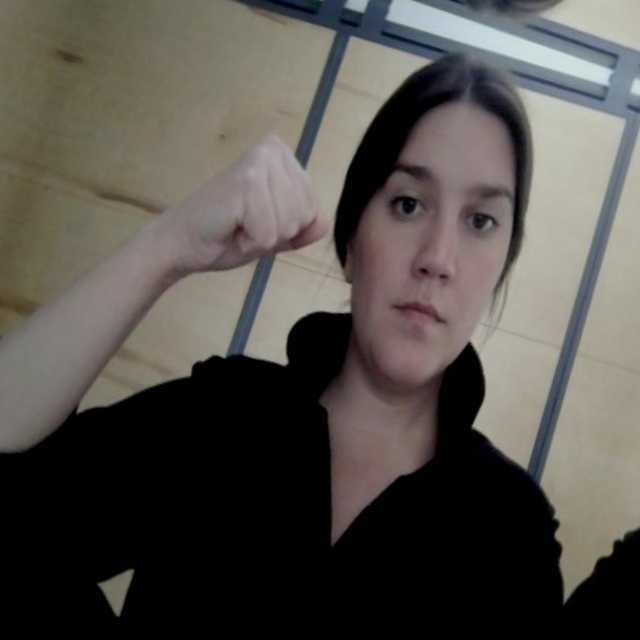Rock: (170, 109, 358, 304)
